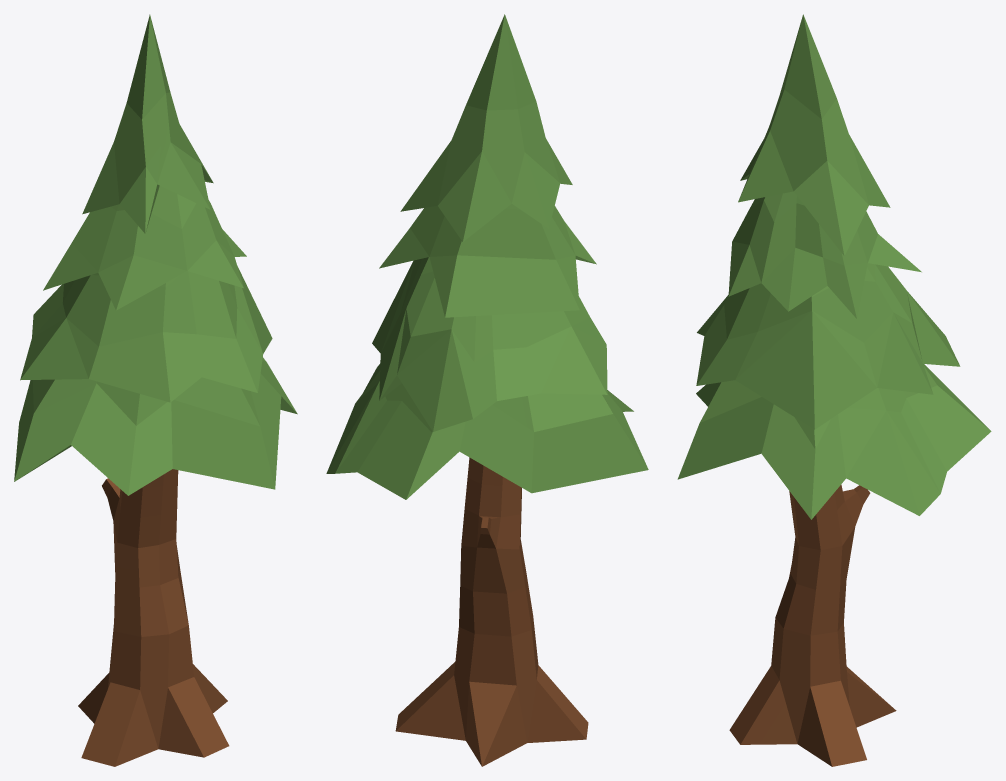
File: PineTree.fbx
The picture shows the model from 3 angles, left to right: view 1: azimuth 30°, elevation 25°; view 2: azimuth 150°, elevation 25°; view 3: azimuth 270°, elevation 25°; orthographic projection.
Parts seen in each view (by area): view 1: PineTree; view 2: PineTree; view 3: PineTree.
Part boxes in pixels (bbox=[...]): PineTree: bbox=[14, 14, 297, 766]; PineTree: bbox=[326, 14, 648, 766]; PineTree: bbox=[677, 14, 991, 766].
Bounding box in the file's own units: 171 × 402 × 161.
